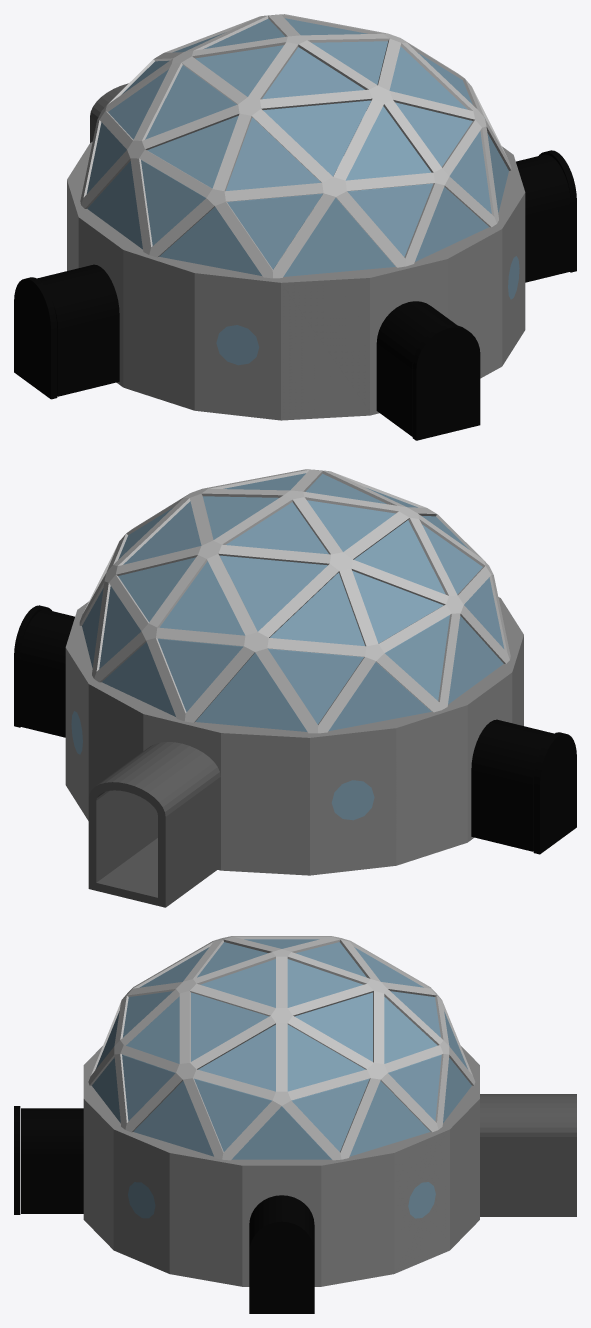
File: hab hollow.fbx
The picture shows the model from 3 angles, top to bottom: view 1: azimuth 30°, elevation 25°; view 2: azimuth 150°, elevation 25°; view 3: azimuth 270°, elevation 25°; orthographic projection. The views are drawn at different scales.
Visible parts, largest first — view 1: dome glass, body, dome frame, connector.003, connector wall.002, connector.002, connector.001, connector wall.001, connector wall, airlock; view 2: dome glass, body, dome frame, airlock, connector.003, connector.002, connector wall.001, connector wall; view 3: body, dome glass, dome frame, airlock, connector.001, connector wall, connector.002, connector wall.002.
Boxes of the visible parts, box(x1,y1,x2,y2) form: dome glass: box(86, 18, 508, 276); body: box(67, 142, 525, 420); dome frame: box(80, 14, 511, 278); connector.003: box(37, 264, 119, 396); connector wall.002: box(412, 325, 480, 440); connector.002: box(516, 154, 570, 282); connector.001: box(376, 301, 456, 436); connector wall.001: box(14, 277, 57, 399); connector wall: box(539, 150, 576, 272); airlock: box(90, 83, 128, 142); dome glass: box(82, 473, 504, 731); body: box(65, 597, 523, 875); dome frame: box(79, 469, 510, 733); airlock: box(88, 742, 220, 907); connector.003: box(471, 719, 553, 851); connector.002: box(19, 609, 74, 737); connector wall.001: box(533, 732, 576, 854); connector wall: box(14, 605, 51, 727); body: box(83, 1046, 479, 1286); dome glass: box(92, 939, 471, 1159); dome frame: box(88, 936, 475, 1160); airlock: box(480, 1094, 576, 1216); connector.001: box(21, 1108, 83, 1213); connector wall: box(249, 1219, 314, 1313); connector.002: box(249, 1195, 314, 1249); connector wall.002: box(14, 1106, 20, 1214).
Bounding box in the file's own units: 820 × 423 × 863.
